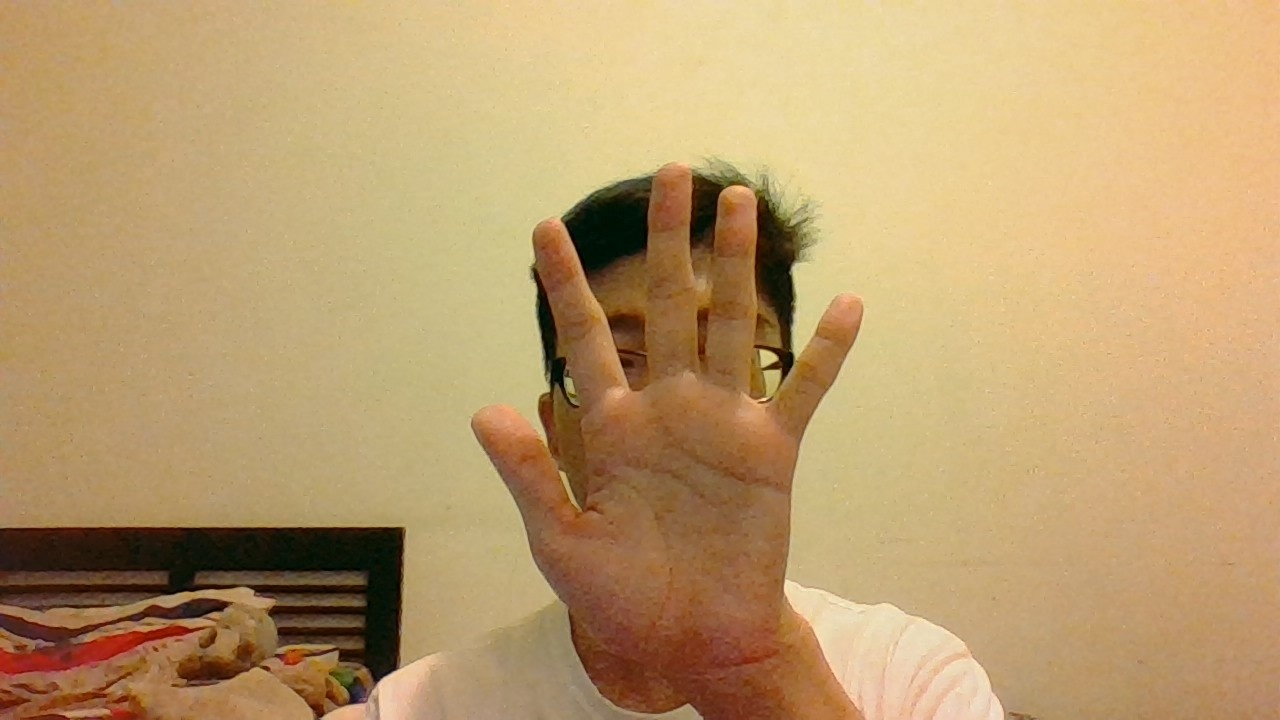Hello: (467, 160, 867, 659)
